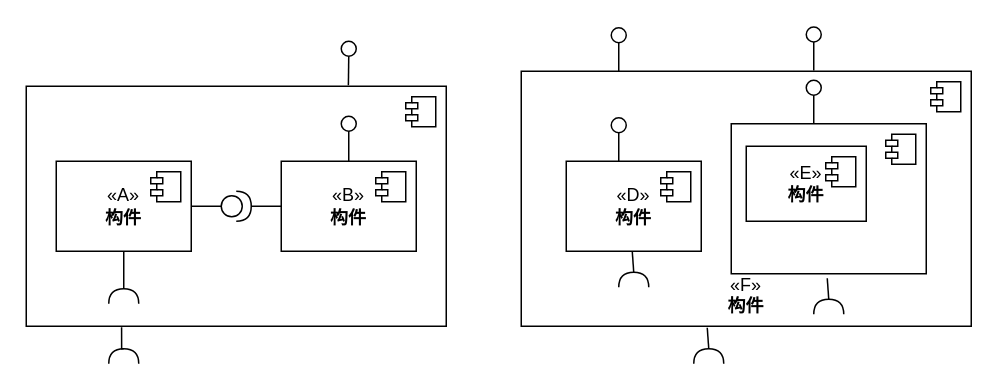
Some shapes in this 998 by 390 pixel diagram are drawn without their labels. The shapes that lost their labels are listed below. From the top down, each one's box as (x1, y1, x2, y2) in pixels, then its label:
(25, 85, 446, 326): «C» 构件
(730, 122, 926, 274): «En» 构件
